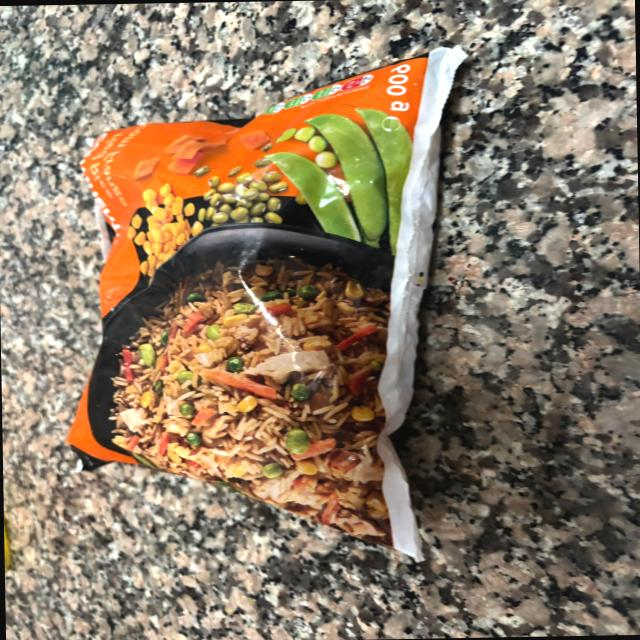good_package: (62, 43, 479, 570)
